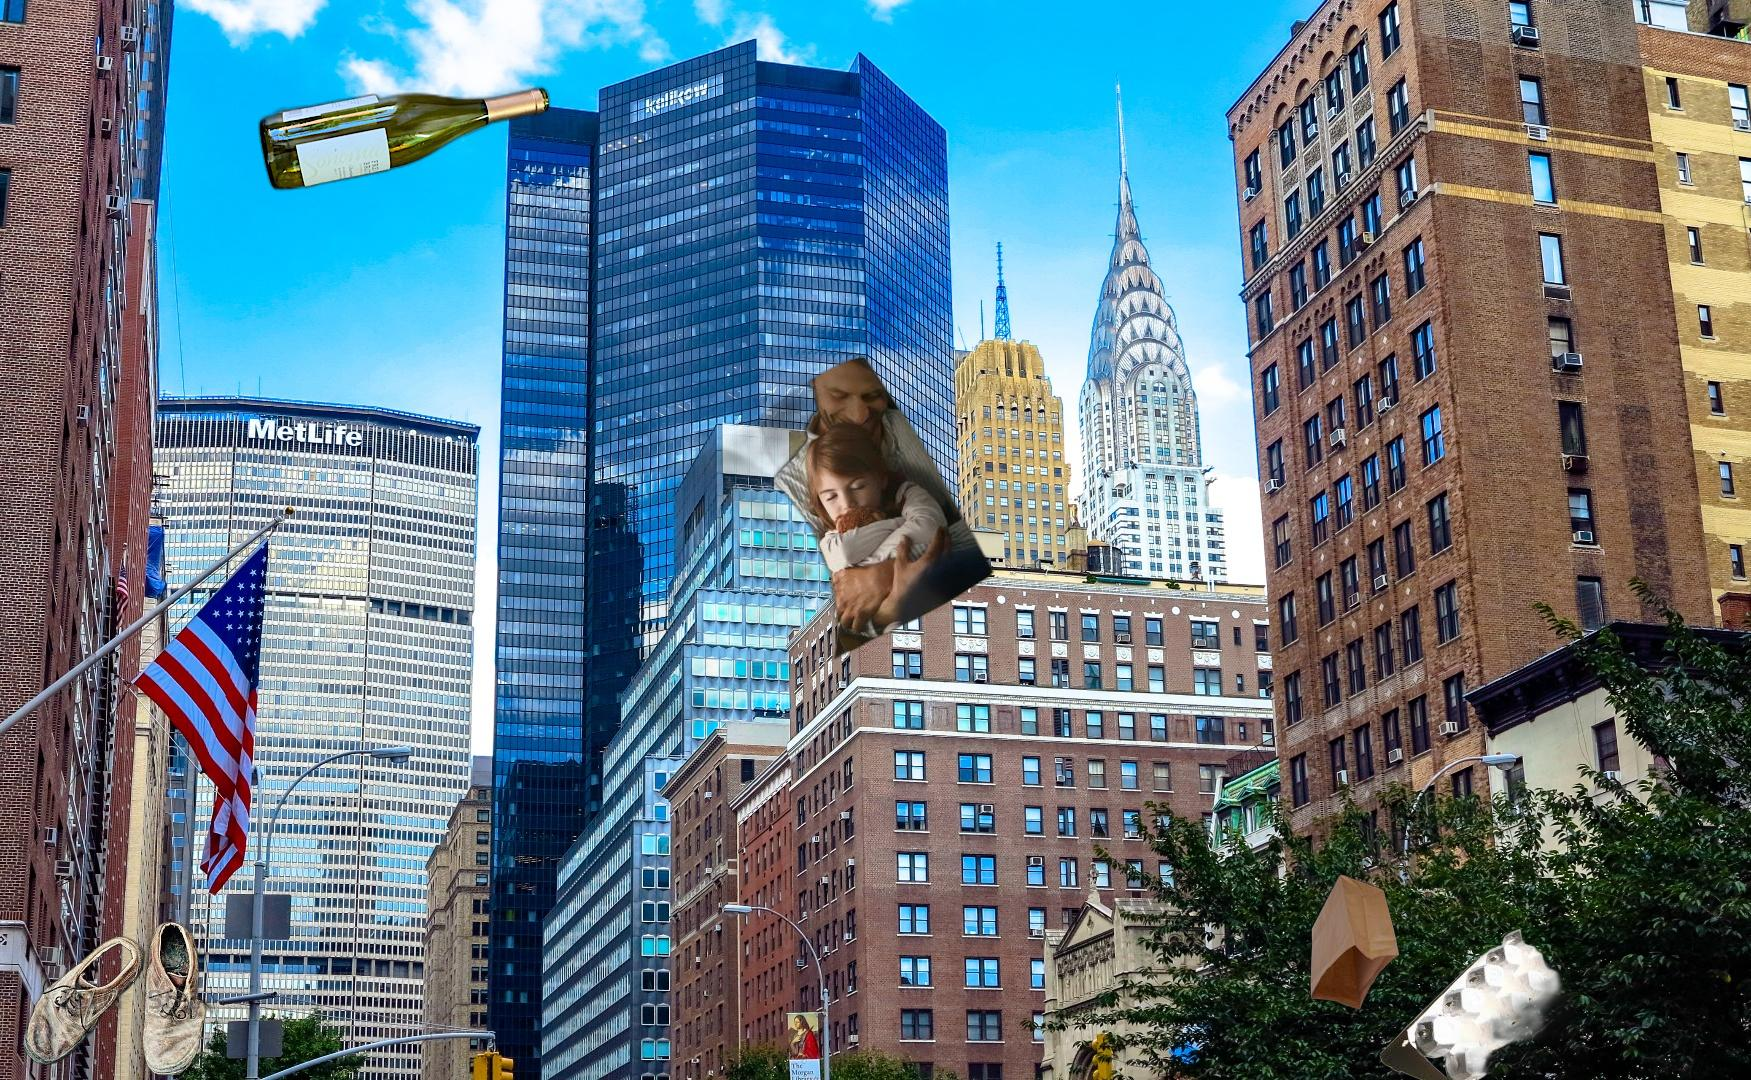glass: (254, 82, 554, 196)
paper: (564, 354, 998, 736)
paper-bag: (1309, 871, 1401, 1012)
shoes: (20, 919, 221, 1077)
trashbox-cardboard: (1377, 926, 1602, 1080)
